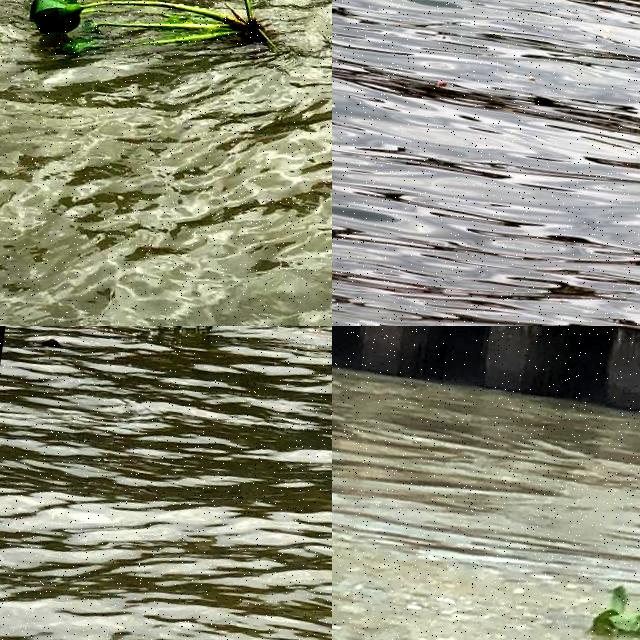water-hyacinth: (24, 1, 292, 88), (127, 327, 228, 358), (589, 583, 640, 639)
